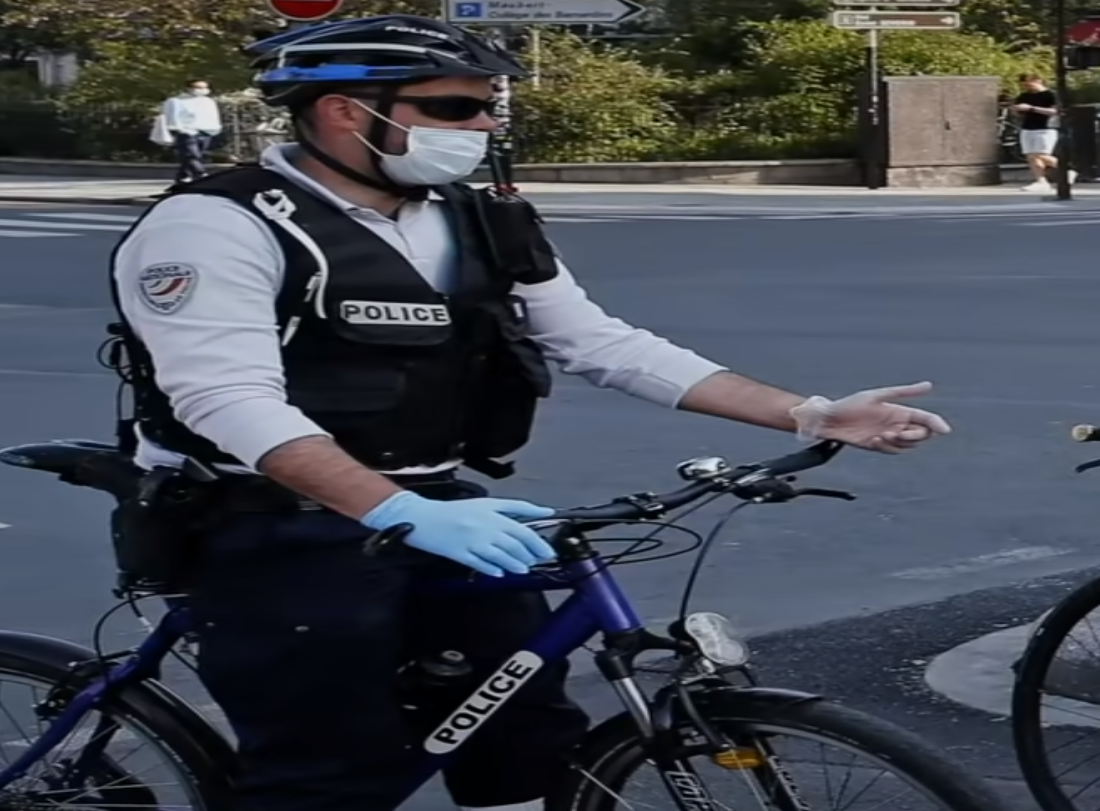mask_weared_incorrect: (268, 22, 509, 196)
